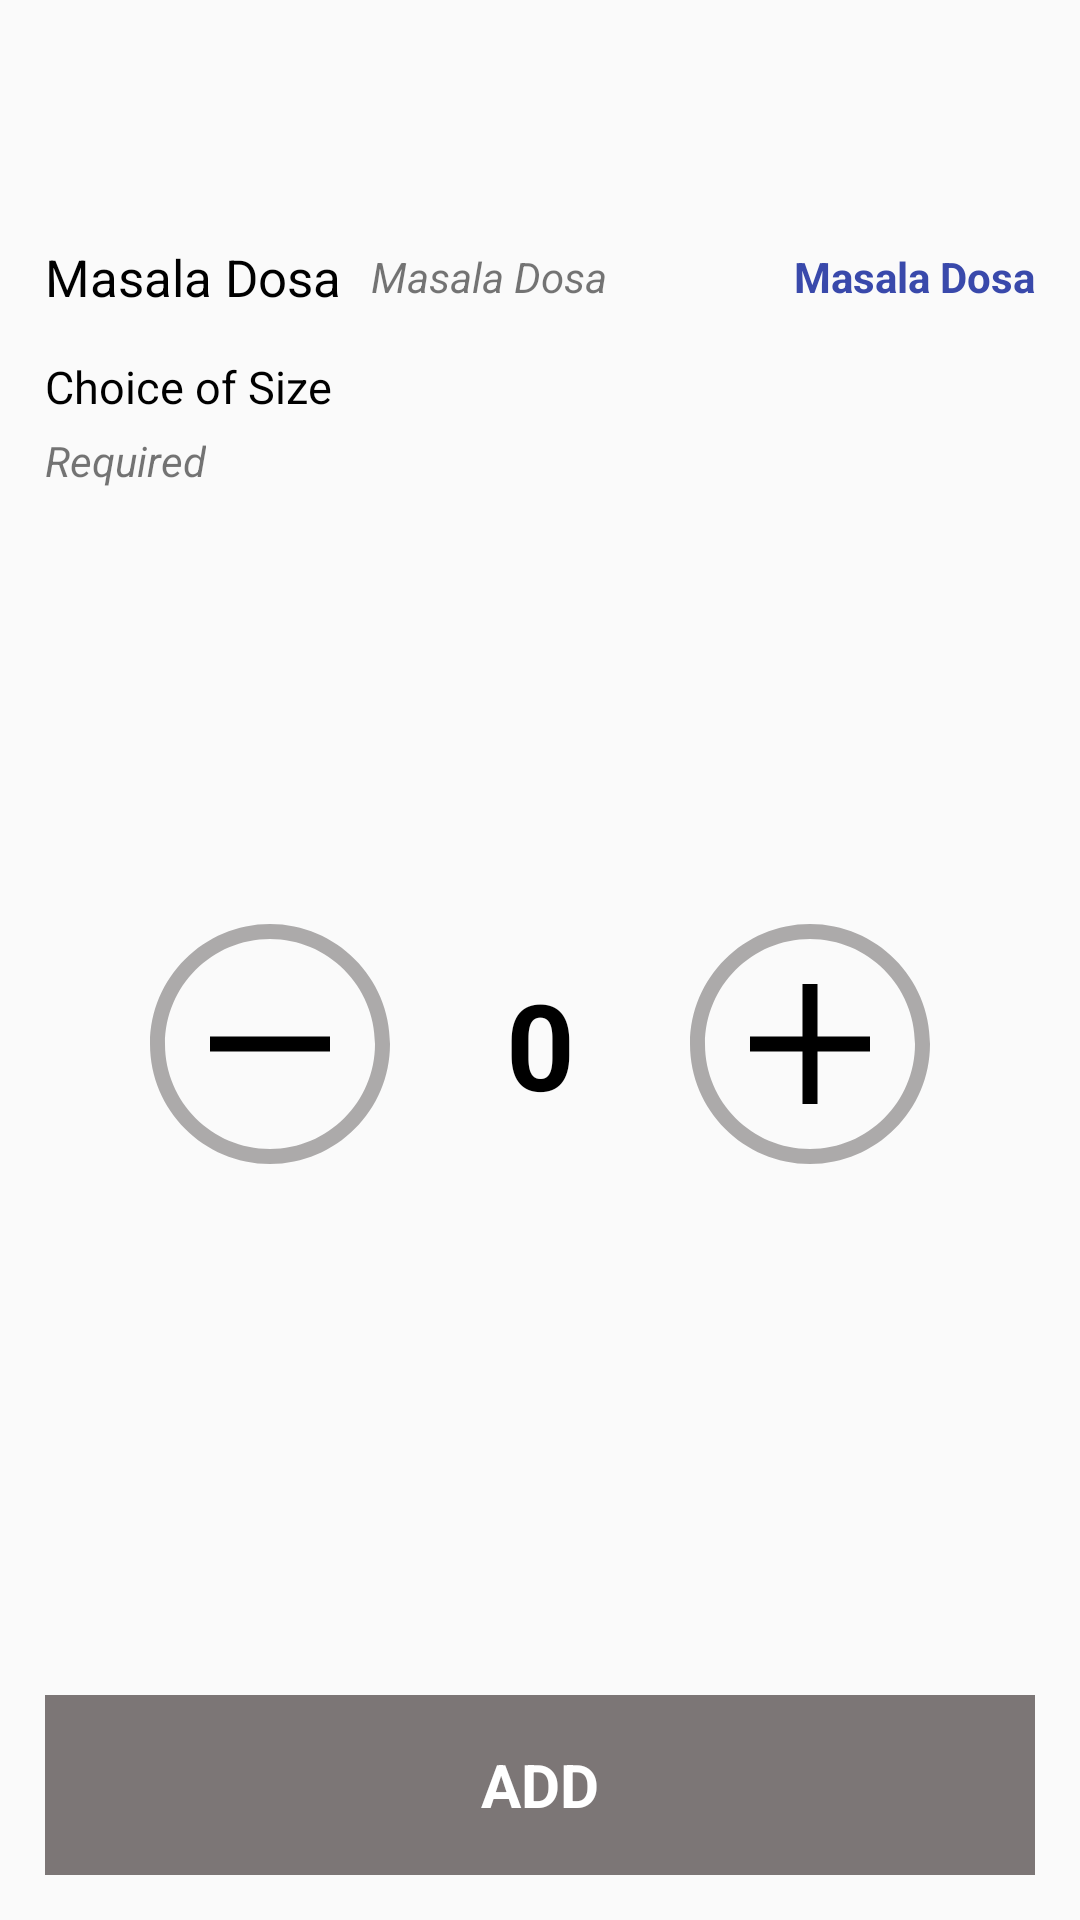

Locate icon controls on the screen. Image size 1080 × 1920, boxes as BBox(x1, y1, x2, y2).
add: BBox(690, 924, 930, 1164)
remove: BBox(150, 924, 390, 1164)
